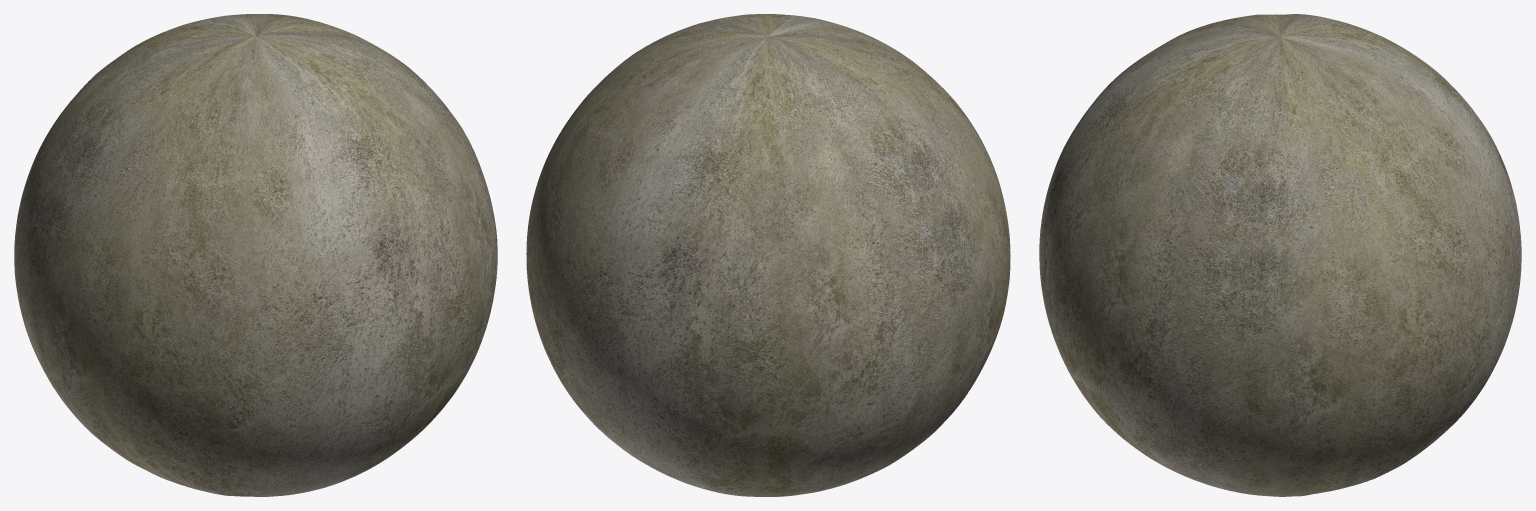
The model's file is grey_plaster_1k.gltf.
3 views of the same model, side by side, from view 1: azimuth 30°, elevation 25°; view 2: azimuth 150°, elevation 25°; view 3: azimuth 270°, elevation 25° (orthographic).
Visible parts, largest first — view 1: sphere_gltf; view 2: sphere_gltf; view 3: sphere_gltf.
Part boxes in pixels (x1=…): sphere_gltf: x1=14, y1=14, x2=497, y2=496; sphere_gltf: x1=526, y1=14, x2=1010, y2=496; sphere_gltf: x1=1039, y1=14, x2=1521, y2=496.
Size of the model in its own units: 0.9973 by 1 by 0.9982.
Materials: 1 (1 with a texture image).
